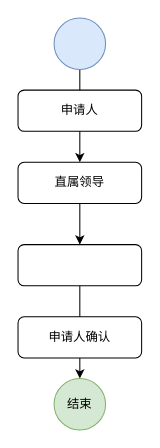
This 160x448 diagram has some shape labels left out. Here are the shapes that lost their labels. From the top down, the box of each, then its label:
(53, 17, 106, 70): 开始
(17, 244, 142, 286): IT运维
